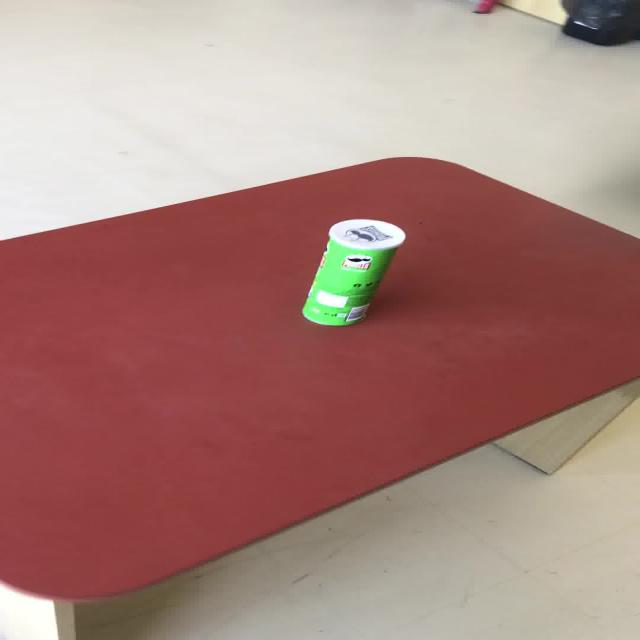pringles: (300, 217, 406, 326)
